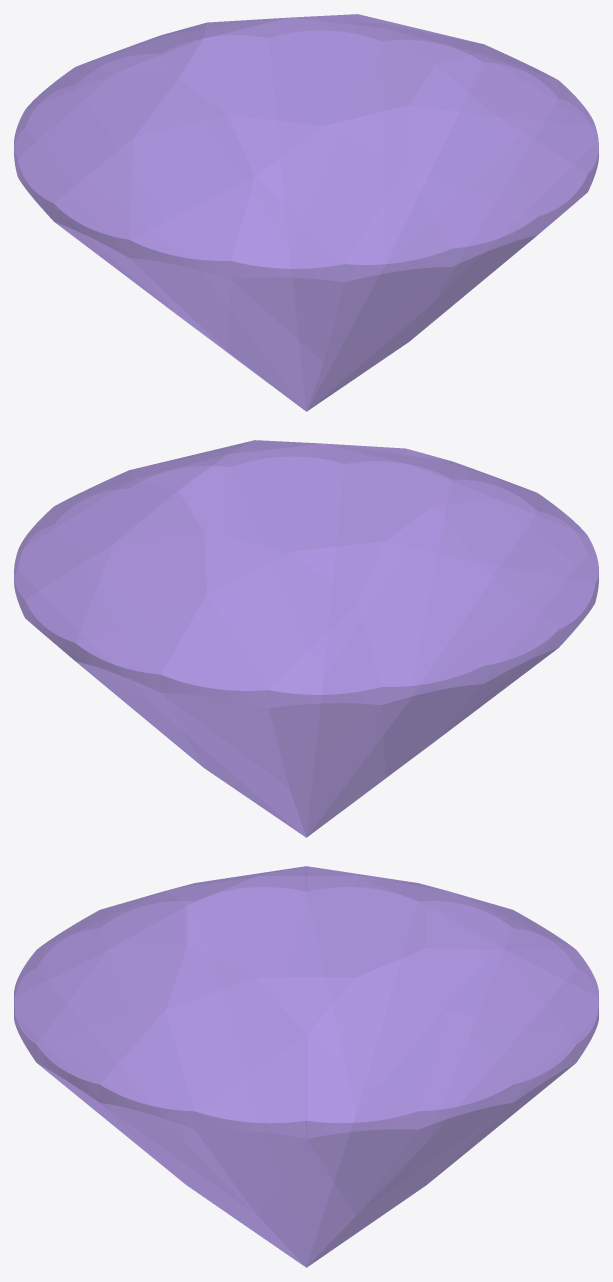
Rendered from Gem_New_01.fbx.
3 views of the same model, one above another, from view 1: azimuth 30°, elevation 25°; view 2: azimuth 150°, elevation 25°; view 3: azimuth 270°, elevation 25° (orthographic).
Parts seen in each view (by area): view 1: Model; view 2: Model; view 3: Model.
Part boxes in pixels (left/top/right/bottom): Model: left=14, top=14, right=598, bottom=411; Model: left=14, top=440, right=598, bottom=837; Model: left=14, top=866, right=598, bottom=1267.
Bounding box in the file's own units: 99.42 × 63.95 × 99.42.
